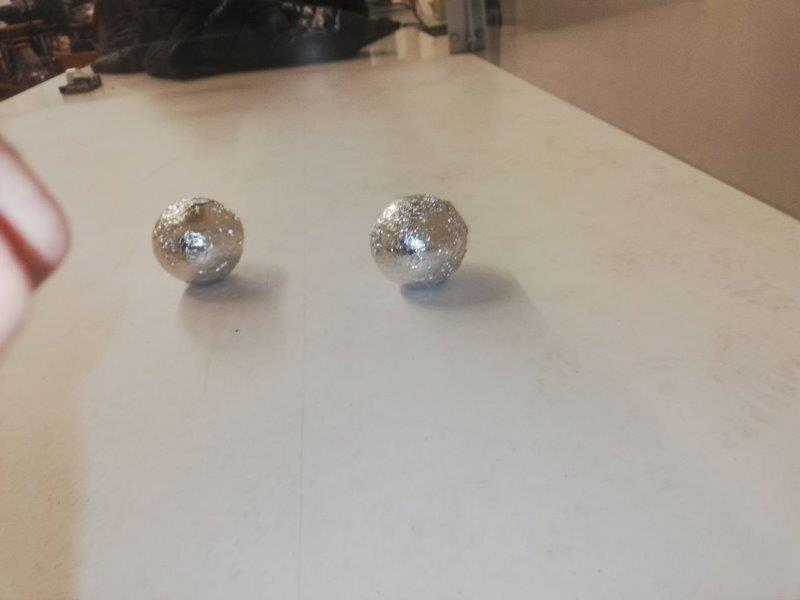bianca: (366, 190, 470, 289), (153, 196, 241, 282)
